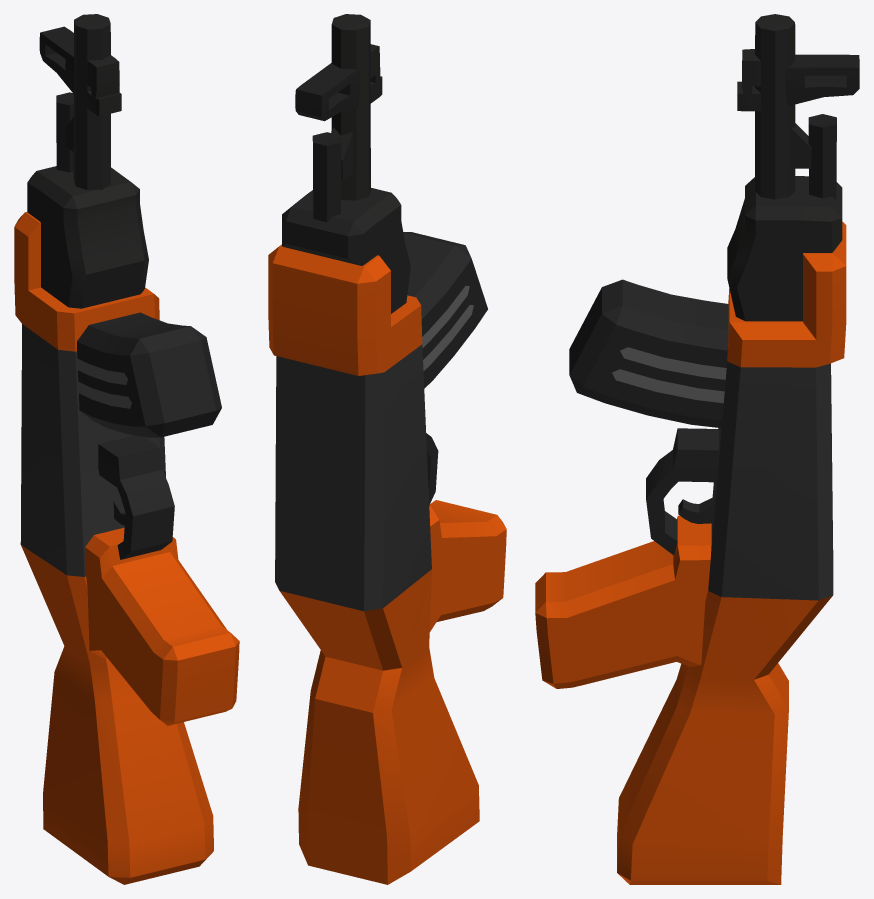
The model's file is scene_SYqn2p2RLq.glb.
3 renders of one model, left to right at view 1: azimuth 30°, elevation 25°; view 2: azimuth 150°, elevation 25°; view 3: azimuth 270°, elevation 25°, orthographic. The views are drawn at different scales.
Parts seen in each view (by area): view 1: Collectable_Gun_Ak47_01; view 2: Collectable_Gun_Ak47_01; view 3: Collectable_Gun_Ak47_01.
Boxes of the visible parts, box(x1,y1,x2,y2) form: Collectable_Gun_Ak47_01: box(14, 14, 239, 884); Collectable_Gun_Ak47_01: box(268, 14, 506, 884); Collectable_Gun_Ak47_01: box(535, 14, 859, 884).
Bounding box in the file's own units: 0.1631 × 1.19 × 0.4132.
Materials: 1 (1 with a texture image).
